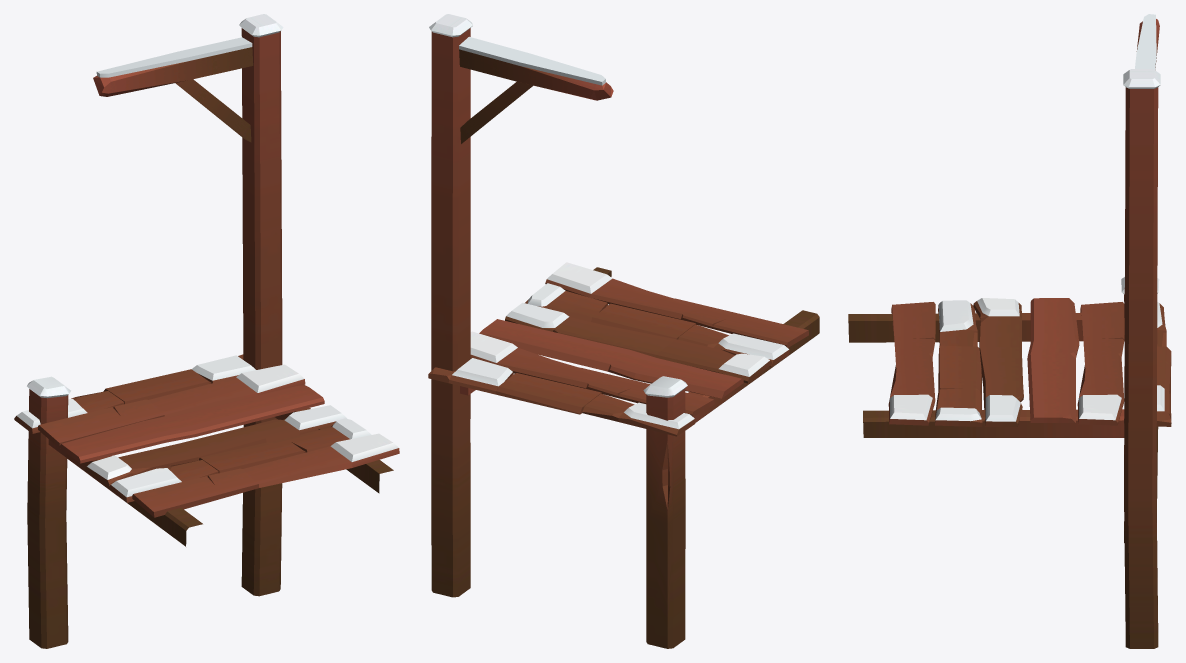
3 views of the same model, side by side, from view 1: azimuth 30°, elevation 25°; view 2: azimuth 150°, elevation 25°; view 3: azimuth 270°, elevation 25° (orthographic).
Parts seen in each view (by area): view 1: SnowyPierPole; view 2: SnowyPierPole; view 3: SnowyPierPole.
Part boxes in pixels (x1,y1,x2,y2): SnowyPierPole: (14,14,399,648); SnowyPierPole: (428,14,819,648); SnowyPierPole: (848,14,1171,648).
Size of the model in its own units: 2.49 by 5.35 by 2.76.
Materials: 1 (1 with a texture image).
